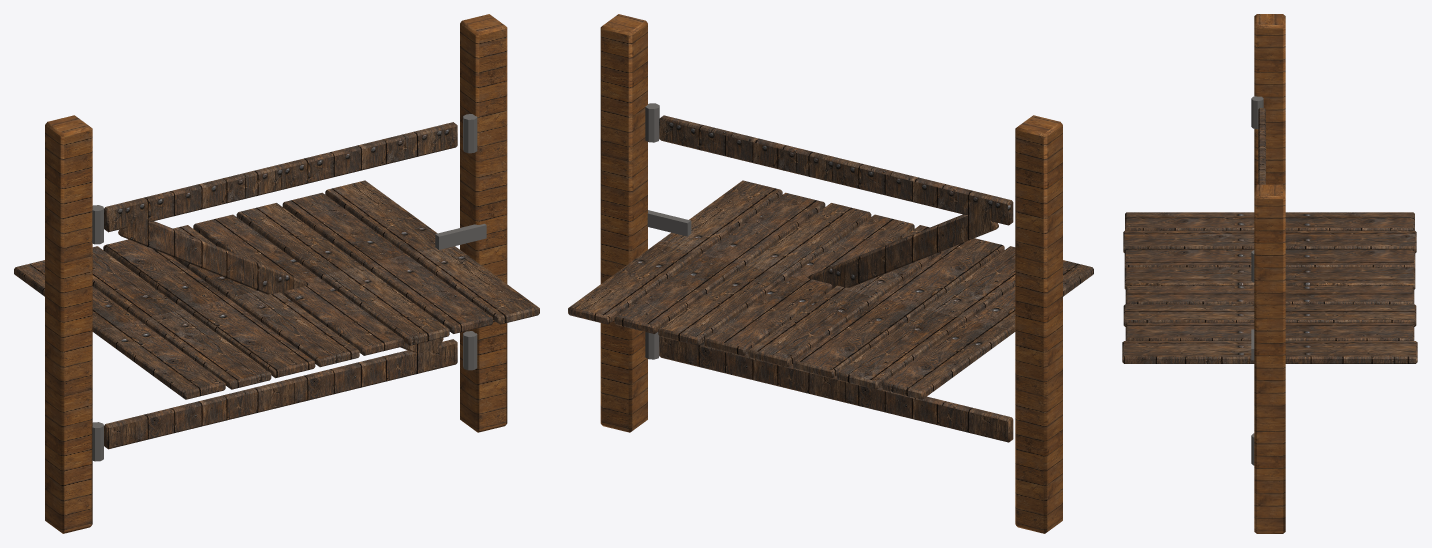
Rendered from wooden-gate-v01.glb.
3 views of the same model, side by side, from view 1: azimuth 30°, elevation 25°; view 2: azimuth 150°, elevation 25°; view 3: azimuth 270°, elevation 25° (orthographic). The views are drawn at different scales.
Parts seen in each view (by area): view 1: wooden-gate; view 2: wooden-gate; view 3: wooden-gate.
Part boxes in pixels (<box>): wooden-gate: <box>14,14,539,533</box>; wooden-gate: <box>568,14,1093,533</box>; wooden-gate: <box>1122,14,1417,533</box>.
Bounding box in the file's own units: 2.8 × 2.4 × 1.9.
Materials: 3 (2 with a texture image).
